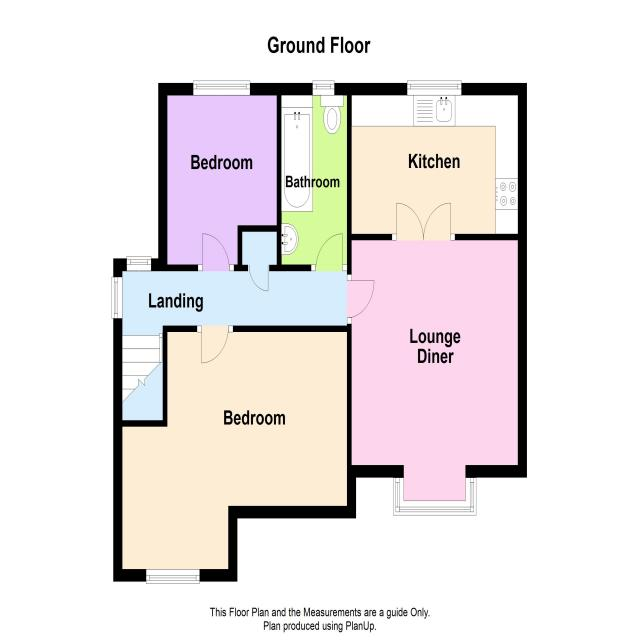DOOR: (347, 274, 375, 325), (314, 232, 345, 272), (201, 231, 231, 272), (200, 324, 230, 365), (246, 264, 270, 293)
DOUBLE DOOR: (392, 202, 455, 241)
ROOM: (113, 325, 356, 585), (346, 202, 527, 517), (347, 79, 527, 241), (158, 79, 282, 272)
WINDOW: (393, 477, 477, 516), (192, 79, 251, 97), (406, 80, 462, 97), (145, 568, 200, 585), (111, 275, 123, 319), (126, 255, 152, 272), (312, 80, 336, 96)
